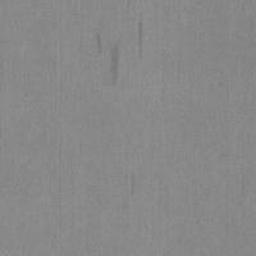Inclusion: (110, 44, 119, 85), (138, 21, 143, 47), (96, 33, 102, 53)
